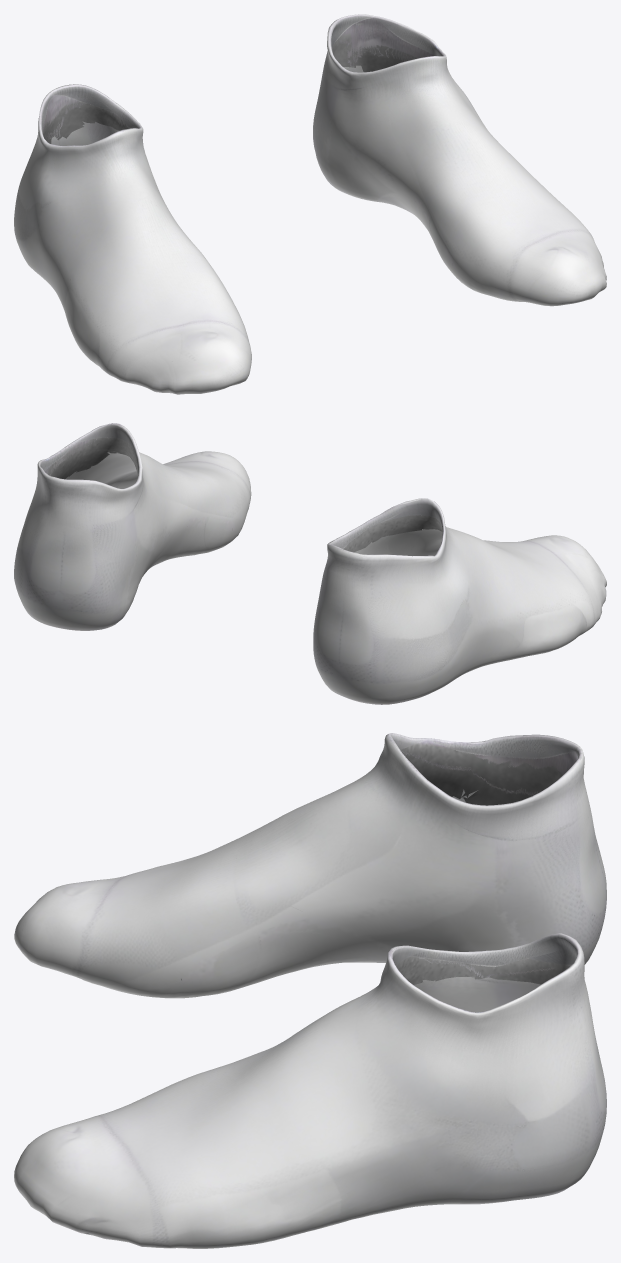
The model's file is twosock.glb.
3 renders of one model, top to bottom at view 1: azimuth 30°, elevation 25°; view 2: azimuth 150°, elevation 25°; view 3: azimuth 270°, elevation 25°, orthographic. The views are drawn at different scales.
Size of the model in its own units: 1.99 by 0.6622 by 1.47.
1 material, 1 textured.
